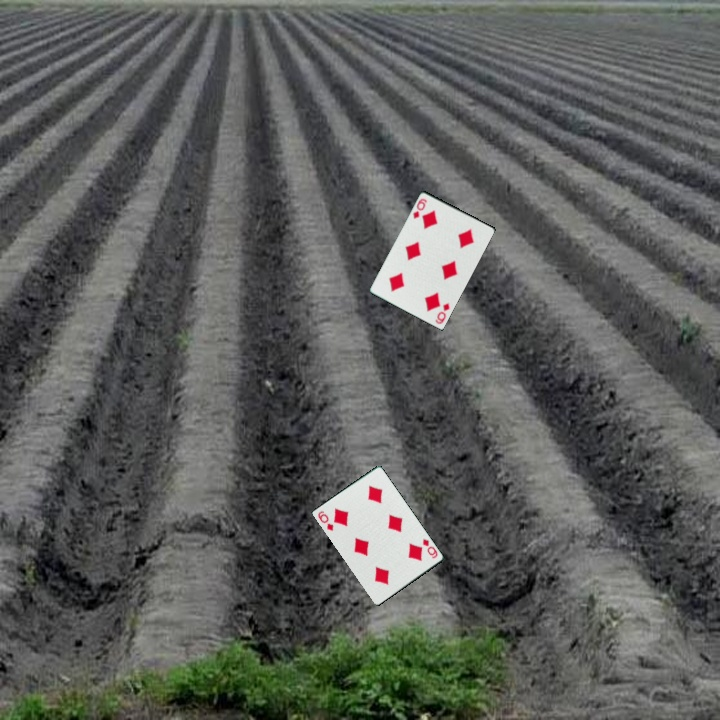6d: (315, 507, 337, 534), (419, 535, 441, 561), (409, 195, 430, 221), (432, 299, 452, 326)
